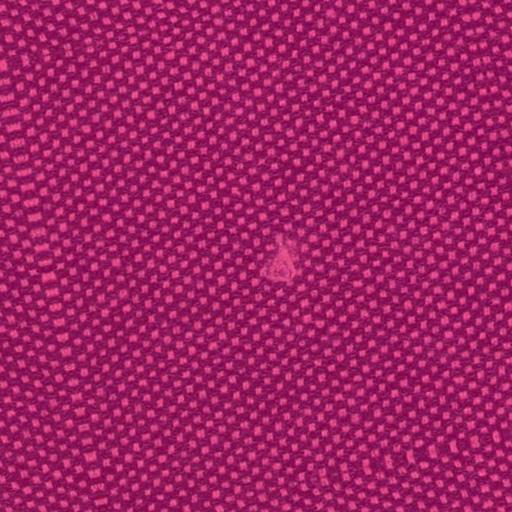knot: (254, 227, 309, 296)
